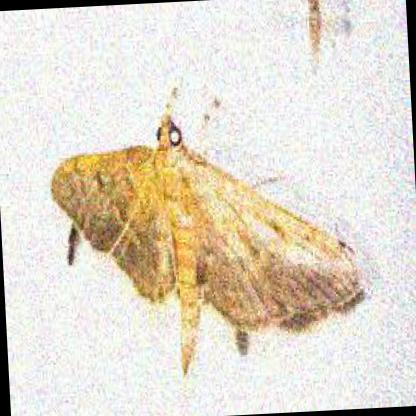Leaf Webber: (55, 84, 365, 383)
